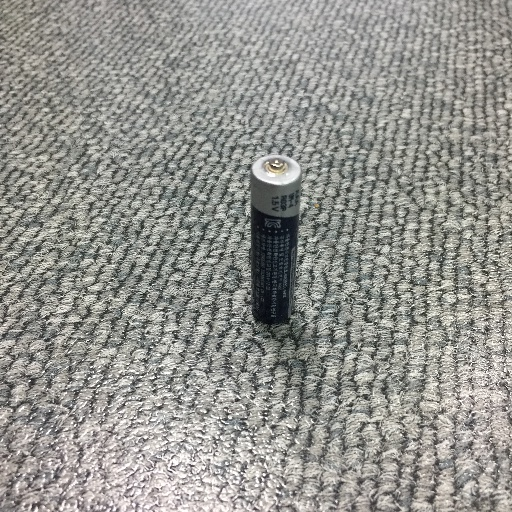Battery_0: (241, 149, 310, 331)
